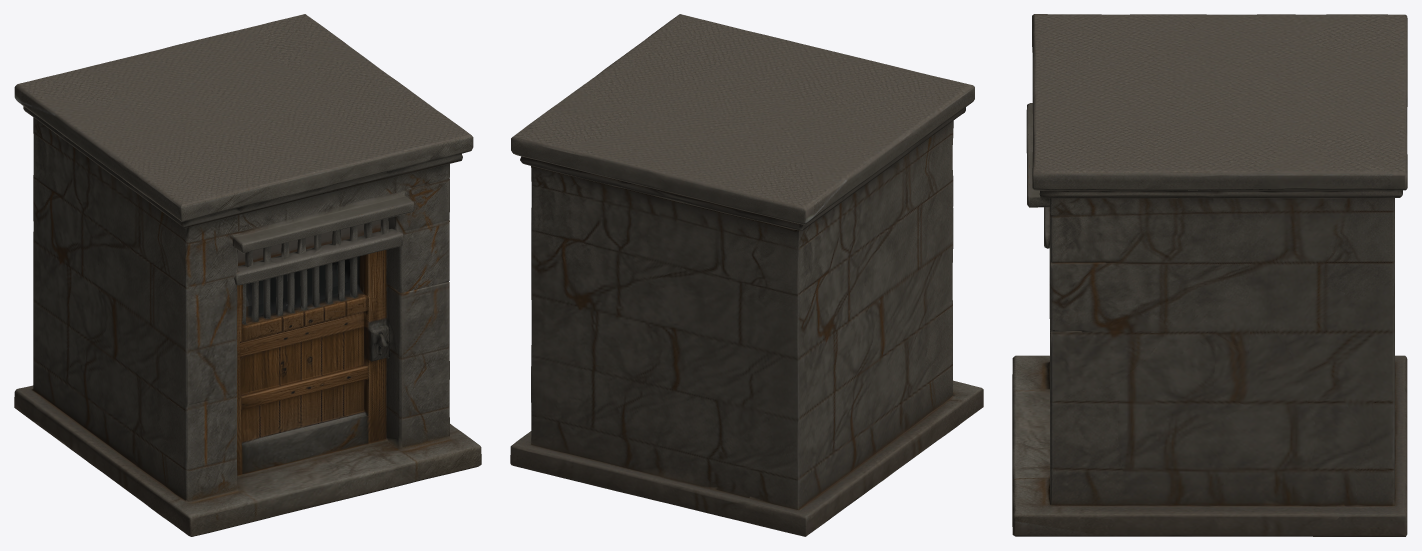
File: Dungeon_entrance.glb
The picture shows the model from 3 angles, left to right: view 1: azimuth 30°, elevation 25°; view 2: azimuth 150°, elevation 25°; view 3: azimuth 270°, elevation 25°; orthographic projection. The views are drawn at different scales.
Size of the model in its own units: 1.89 by 2 by 1.96.
Materials: 1 (1 with a texture image).
